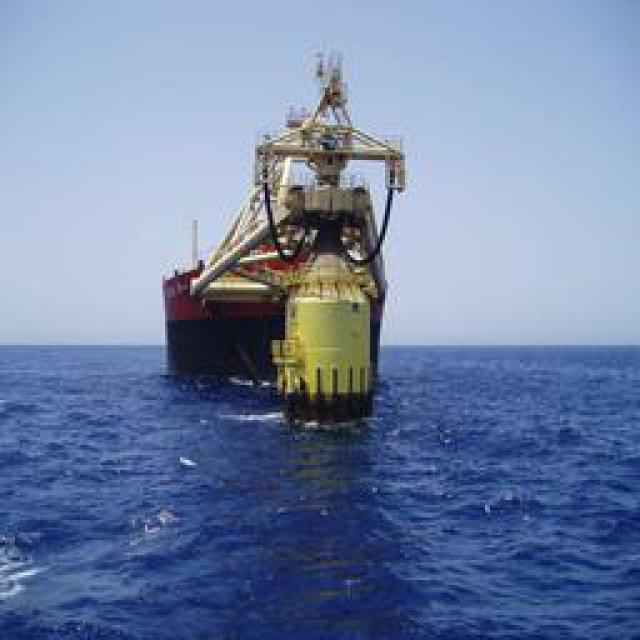Ship: (180, 57, 398, 425)
